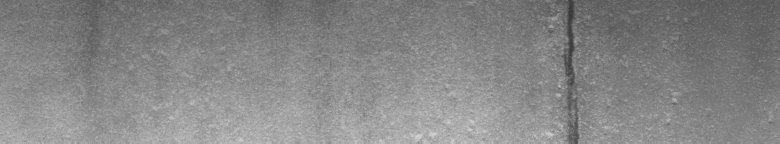hd: (544, 4, 584, 136)
